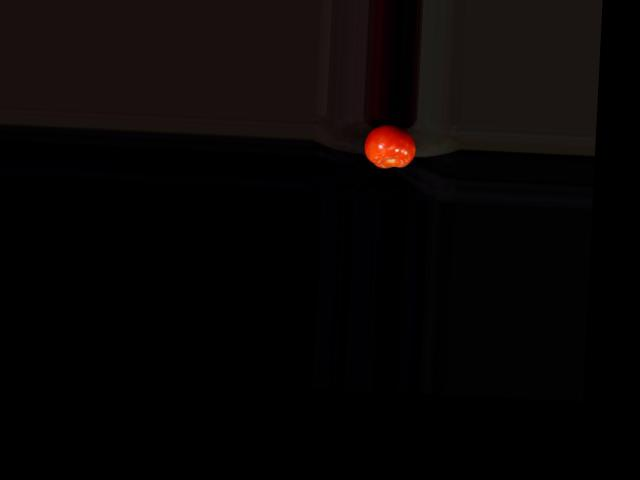tomato: (362, 124, 416, 169)
